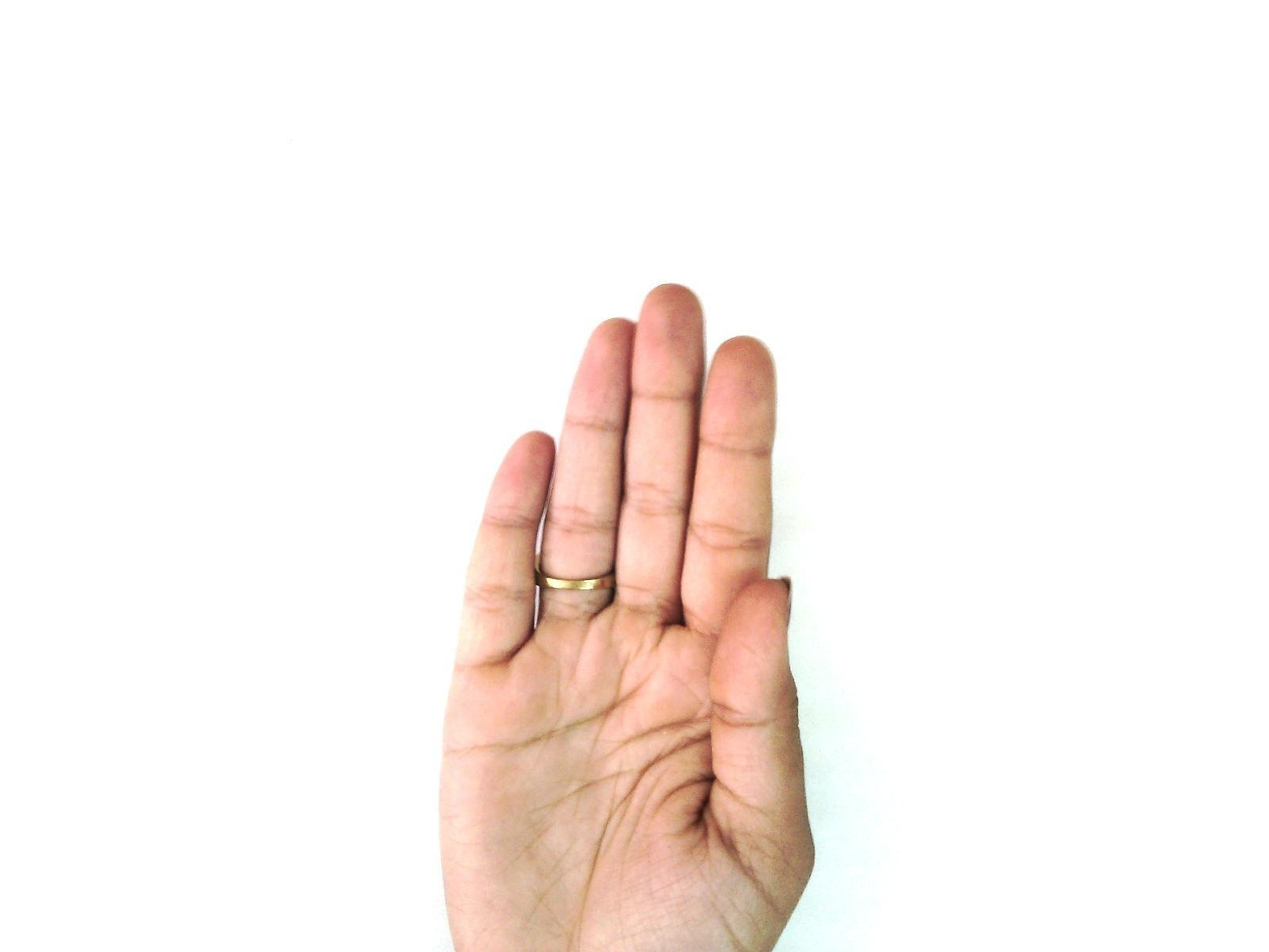open_palm: (435, 282, 820, 951)
